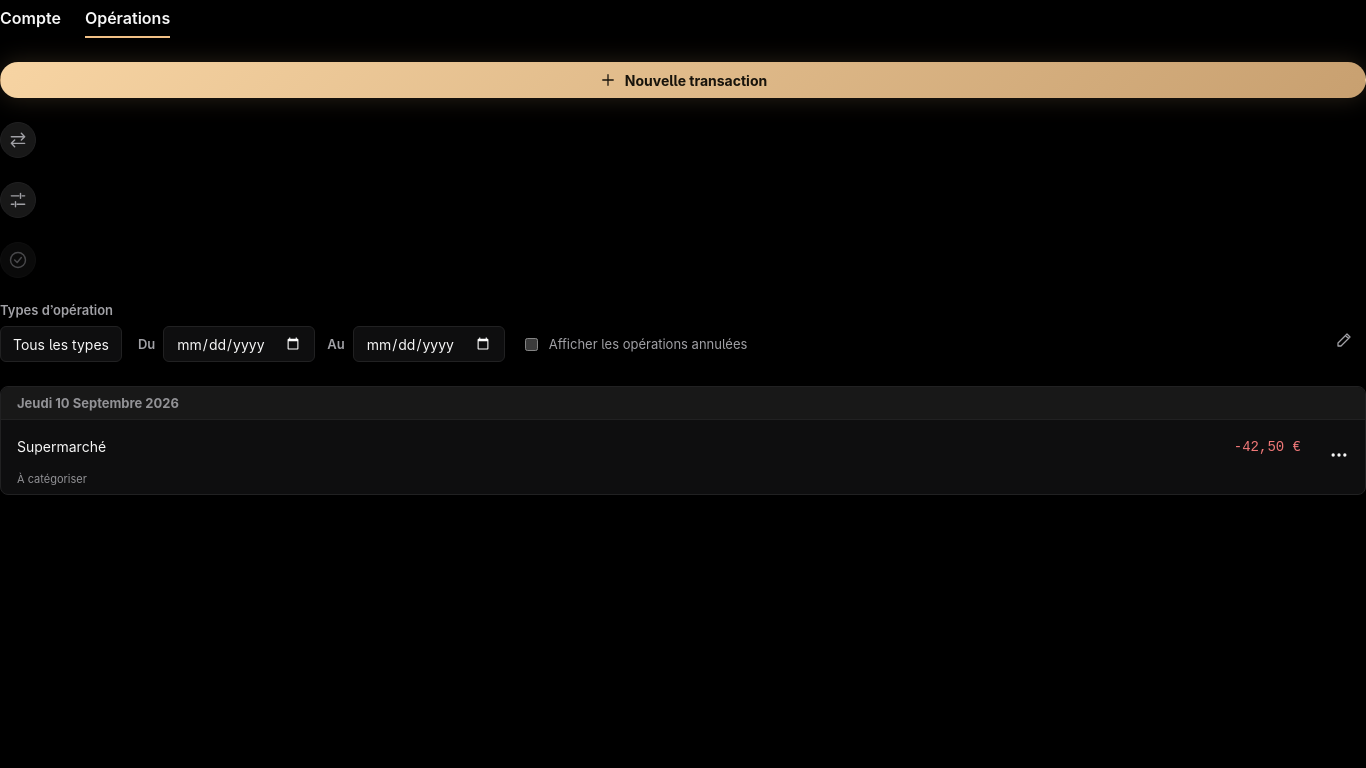
AccountDetailPage › voids a plain movement with its version and confirms with a toast
This screenshot has width=1366, height=768.
Expected: the button "Supermarché" is shown, [17, 424, 106, 468]
Click the button named "Actions de la transaction « Supermarché »": x=1339, y=455 [1321, 437, 1357, 473]
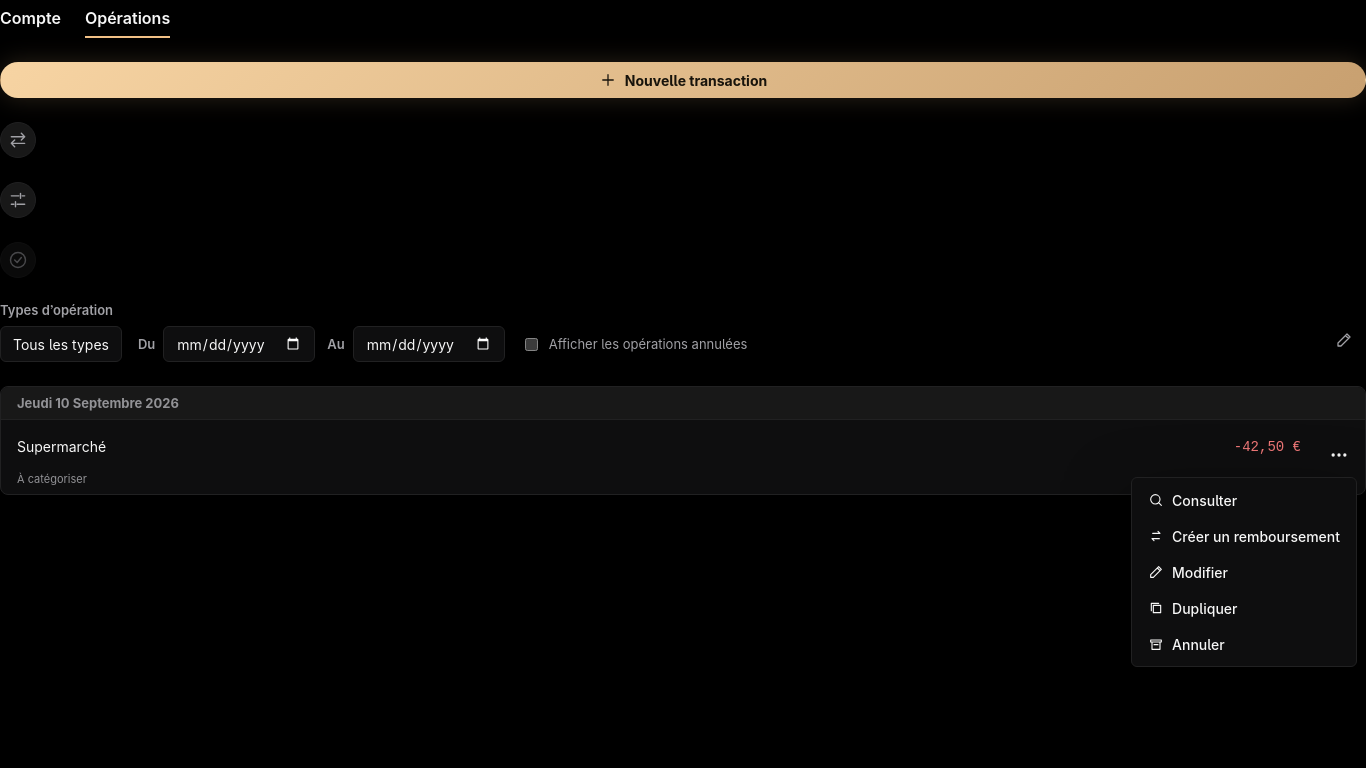
Click the button with aria-label "Annuler la transaction « Supermarché »": x=1244, y=644 [1136, 626, 1352, 662]
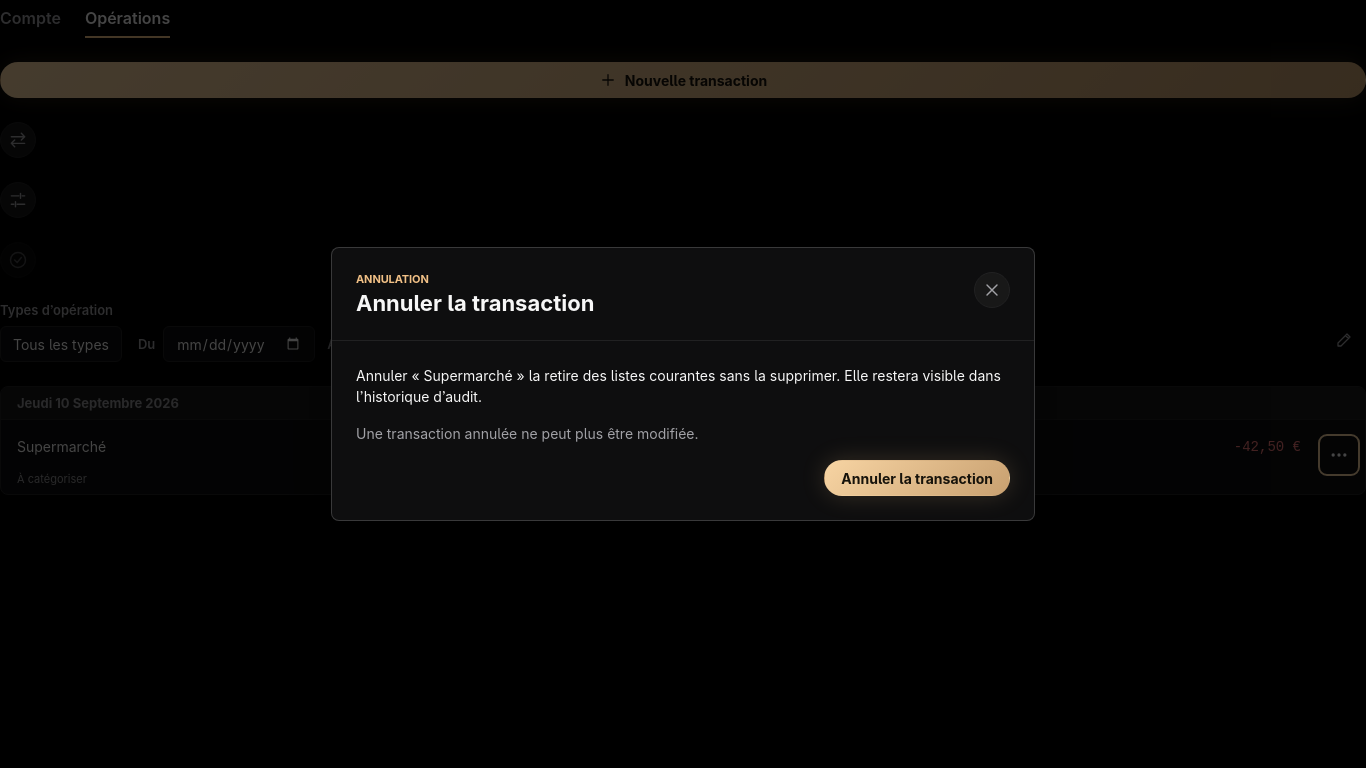
Click the button "Annuler la transaction": x=917, y=478 [824, 460, 1010, 496]
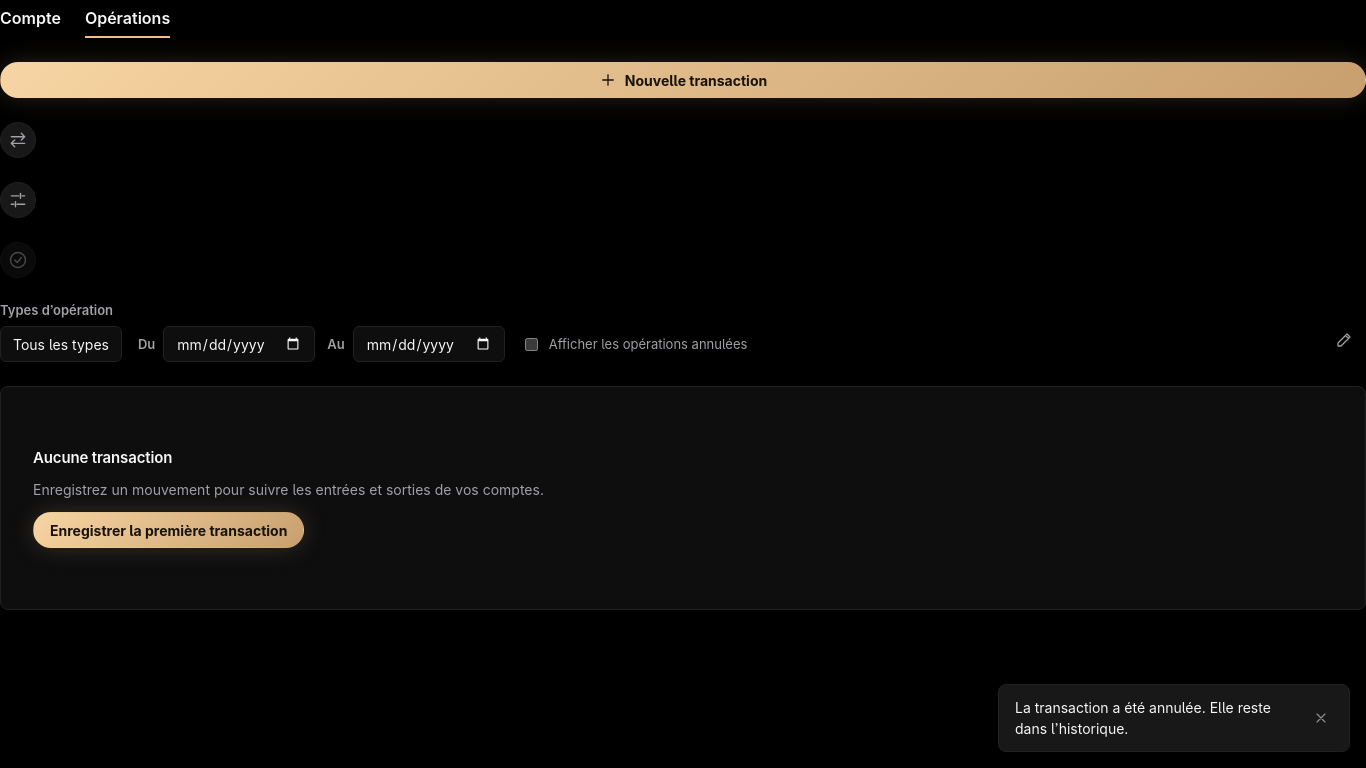
Result: the text "La transaction a été annulée. Elle reste dans l’historique." is shown at [1015, 697, 1293, 739]
Result: the button "Supermarché" is gone
